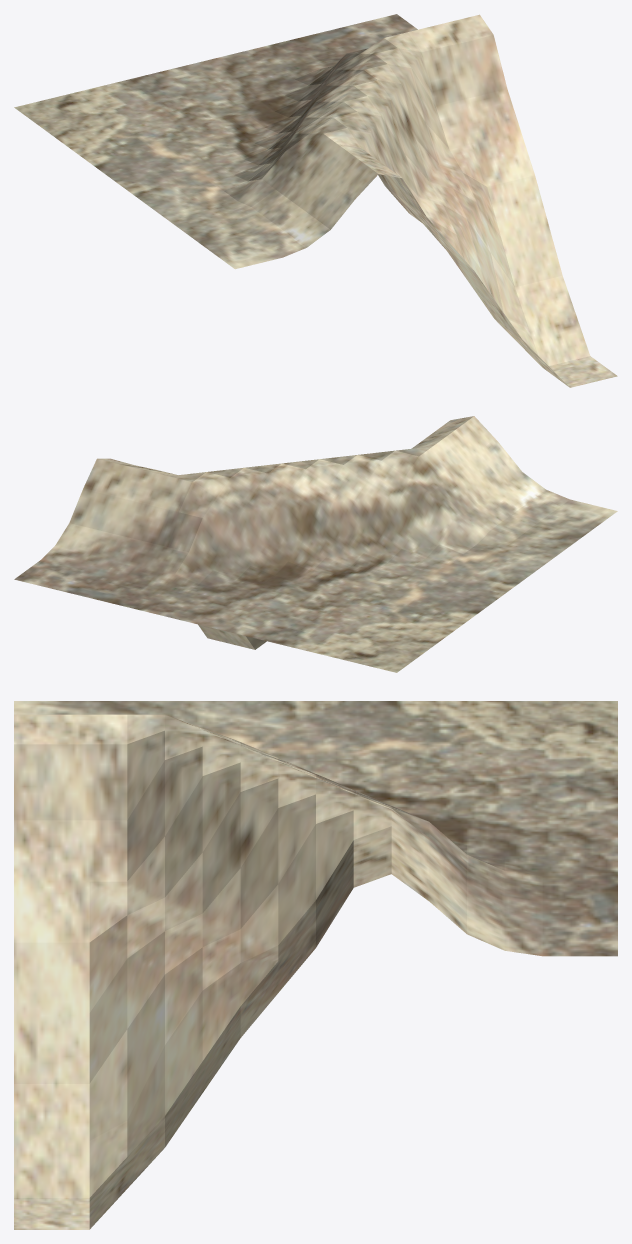
Rendered from CRATERA_GRANDE_CANTO.glb.
3 renders of one model, top to bottom at view 1: azimuth 30°, elevation 25°; view 2: azimuth 150°, elevation 25°; view 3: azimuth 270°, elevation 25°, orthographic. The views are drawn at different scales.
Visible parts, largest first — view 1: CRATERA_GRANDE_NOROESTE_Plano; view 2: CRATERA_GRANDE_NOROESTE_Plano; view 3: CRATERA_GRANDE_NOROESTE_Plano.
Boxes of the visible parts, box(x1,y1,x2,y2) form: CRATERA_GRANDE_NOROESTE_Plano: box(14, 14, 617, 387); CRATERA_GRANDE_NOROESTE_Plano: box(14, 416, 617, 672); CRATERA_GRANDE_NOROESTE_Plano: box(14, 701, 617, 1229).
Size of the model in its own units: 2 by 1.3 by 2.
Materials: 1 (1 with a texture image).
